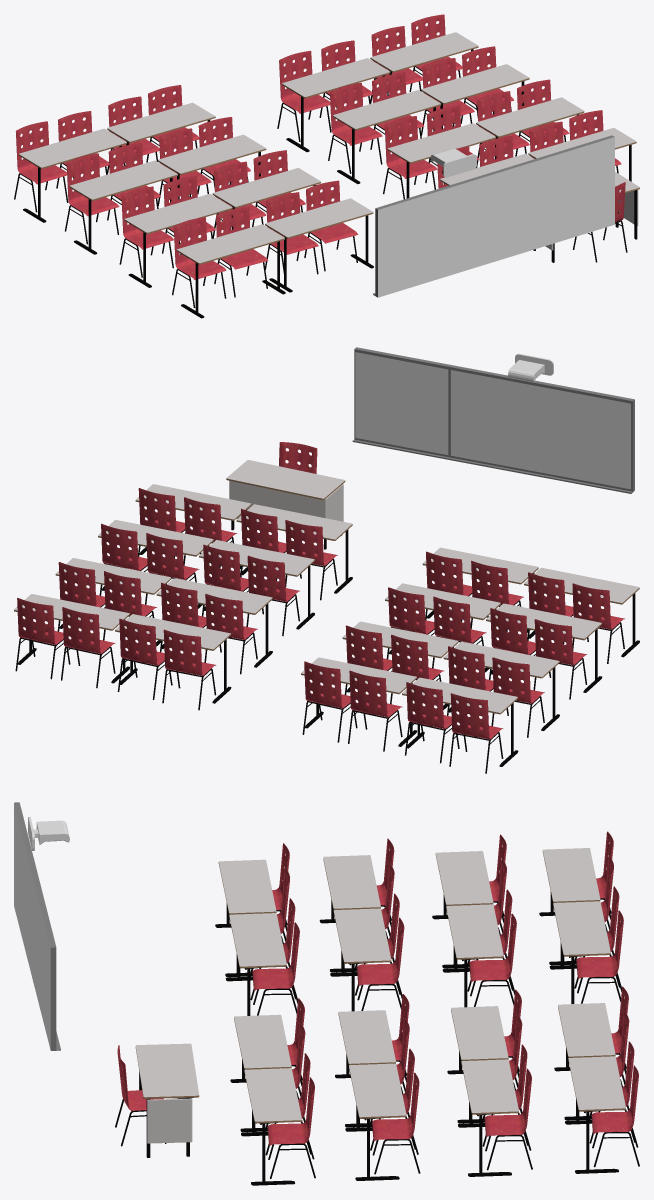
Rendered from fur_bn2_003_sized.glb.
3 views of the same model, one above another, from view 1: azimuth 30°, elevation 25°; view 2: azimuth 150°, elevation 25°; view 3: azimuth 270°, elevation 25° (orthographic). The views are drawn at different scales.
Parts seen in each view (by area): view 1: Tableau29, Tableau30, Table_Table242, Table_Table238, Table_Table248, Table_Table239, Table_Table247, Table_Table252, Table_Table250, Table_Table251, Table_Table254, Table_Table240 (+42 smaller); view 2: Tableau29, Tableau30, Table_prof_Table11, Table_prof_Cube_11, Chaise_Rouge_Pied_250, Chaise_Rouge_Pied_226, Chaise_Rouge_Pied_228, Chaise_Rouge_Pied_252, Chaise_Rouge_Pied_251, Chaise_Rouge_Pied_227, Chaise_Rouge_Pied_249, Chaise_Rouge_Pied_225 (+42 smaller); view 3: Tableau29, Table_prof_Table11, Table_Table250, Table_Table252, Table_Table254, Table_Table236, Table_Table240, Table_Table242, Table_Table238, Table_Table248, Table_Table235, Table_Table253 (+21 smaller).
Boxes of the visible parts, x1,y1,x2,y2 form: Tableau29: [373, 160, 534, 297]; Tableau30: [531, 135, 614, 249]; Table_Table242: [370, 32, 478, 72]; Table_Table238: [476, 97, 584, 137]; Table_Table248: [265, 198, 373, 238]; Table_Table239: [333, 90, 441, 130]; Table_Table247: [176, 224, 284, 264]; Table_Table252: [158, 134, 266, 174]; Table_Table250: [212, 168, 320, 208]; Table_Table251: [69, 160, 177, 200]; Table_Table254: [107, 102, 215, 143]; Table_Table240: [421, 64, 529, 104]; Tableau29: [447, 365, 634, 493]; Tableau30: [352, 347, 450, 459]; Table_prof_Table11: [226, 460, 345, 500]; Table_prof_Cube_11: [229, 480, 343, 521]; Chaise_Rouge_Pied_250: [449, 693, 503, 773]; Chaise_Rouge_Pied_226: [162, 629, 216, 710]; Chaise_Rouge_Pied_228: [61, 607, 115, 688]; Chaise_Rouge_Pied_252: [348, 670, 402, 751]; Chaise_Rouge_Pied_251: [302, 661, 357, 742]; Chaise_Rouge_Pied_227: [15, 598, 70, 679]; Chaise_Rouge_Pied_249: [405, 682, 459, 763]; Chaise_Rouge_Pied_225: [117, 618, 172, 699]; Tableau29: [14, 802, 43, 1000]; Table_prof_Table11: [135, 1043, 199, 1098]; Table_Table250: [333, 908, 391, 963]; Table_Table252: [446, 904, 503, 959]; Table_Table254: [553, 901, 610, 956]; Table_Table236: [244, 1068, 302, 1123]; Table_Table240: [461, 1059, 518, 1114]; Table_Table242: [568, 1056, 625, 1111]; Table_Table238: [349, 1063, 406, 1118]; Table_Table248: [229, 913, 286, 968]; Table_Table235: [234, 1014, 291, 1069]; Table_Table253: [542, 848, 600, 902].
Bounding box in the file's own units: 6.81 × 2.38 × 6.58.
Materials: 10 (2 with a texture image).
